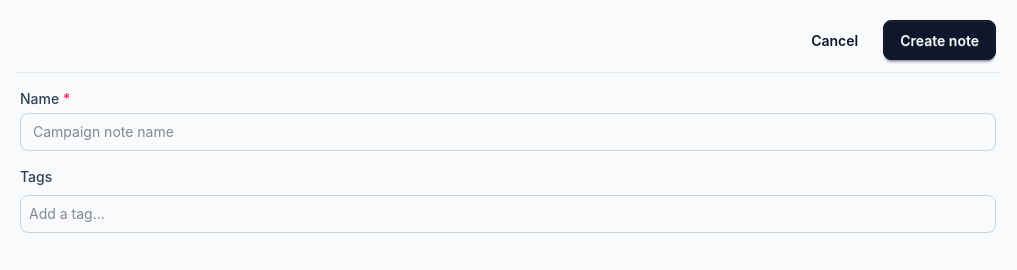
Test case: CampaignNoteMetadataForm › shows validation error for blank name and clears it on input
Click the button "Create note" at (940, 40), box top-left (883, 20), bottom-right (996, 60)
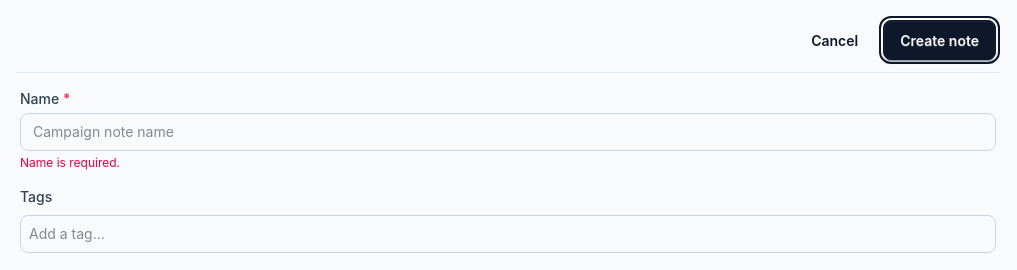
Check: the text "Name is required." is shown, box top-left (20, 155), bottom-right (120, 170)
Type "Boss" into the field labelled "Name *" at (508, 132), box top-left (20, 113), bottom-right (996, 151)
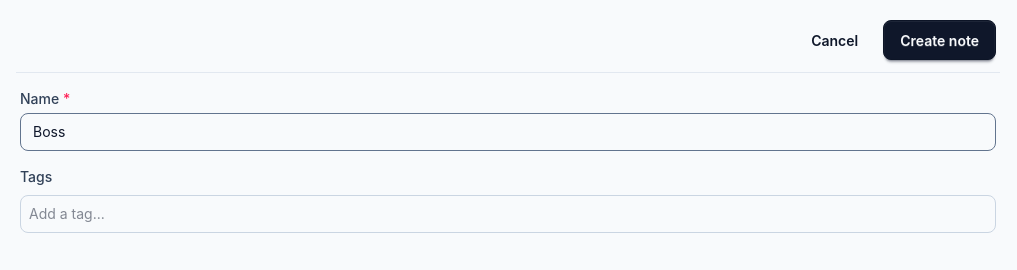
Check: the text "Name is required." is gone
